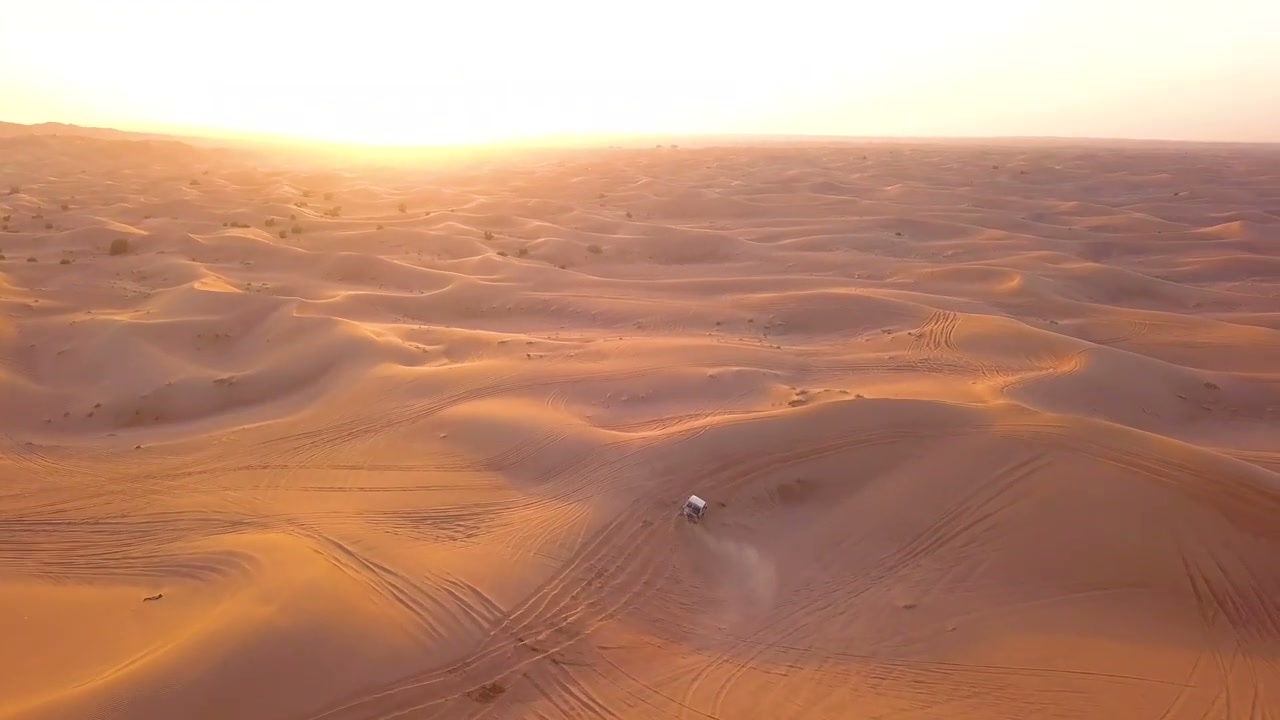vehicle_track: (311, 504, 665, 719), (315, 504, 668, 719), (133, 365, 687, 493), (686, 612, 1180, 716), (262, 363, 716, 464), (788, 453, 1046, 616), (989, 424, 1279, 532), (858, 452, 1048, 586), (294, 529, 500, 641), (876, 452, 1047, 581), (1175, 536, 1279, 716), (0, 511, 271, 579), (699, 428, 928, 488), (12, 454, 200, 518), (1180, 542, 1279, 644), (589, 647, 717, 719), (524, 661, 623, 719), (0, 432, 101, 477), (597, 409, 760, 433), (1000, 348, 1086, 392), (906, 311, 958, 372), (912, 311, 959, 351), (1092, 320, 1150, 345)
